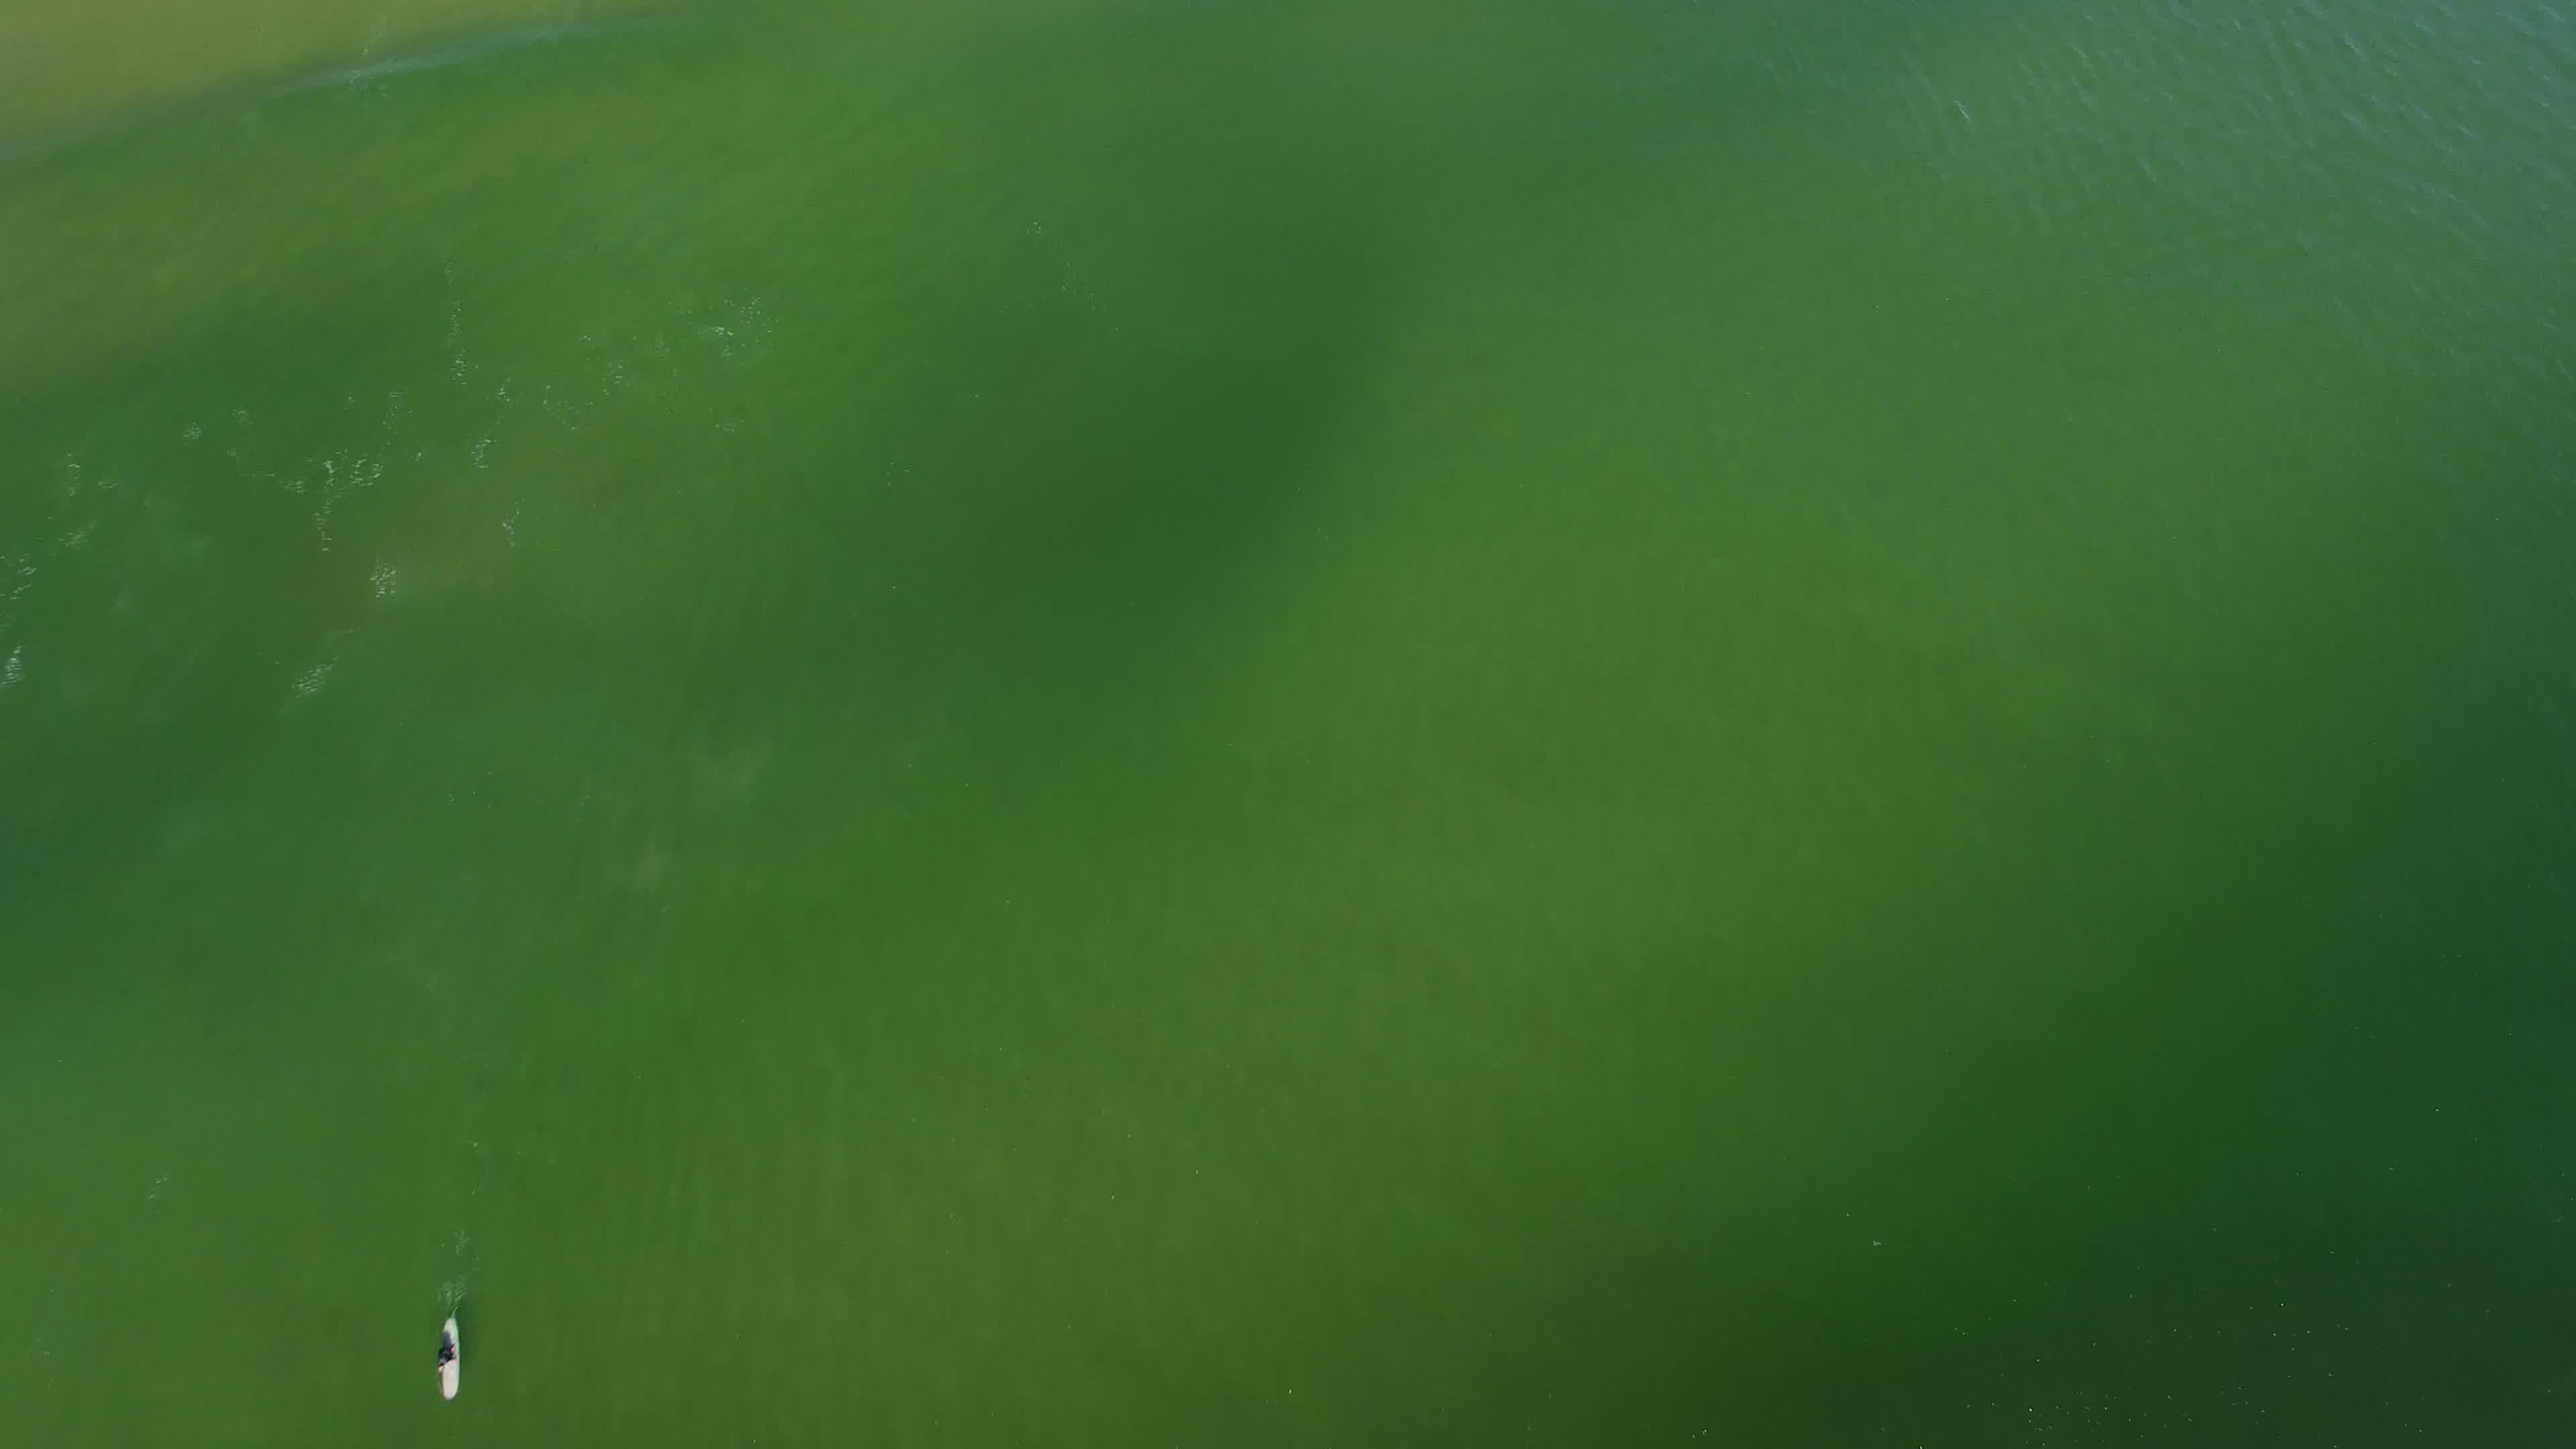surfer: (418, 1293, 476, 1405)
